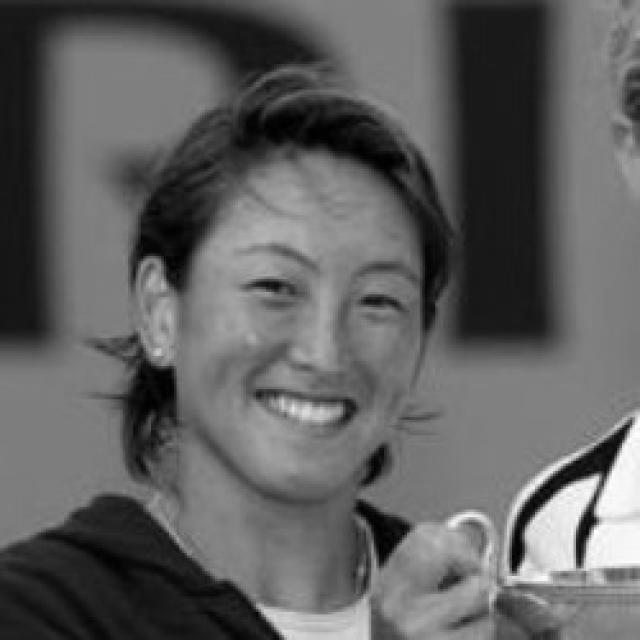real: (178, 147, 428, 500), (220, 261, 407, 325)
